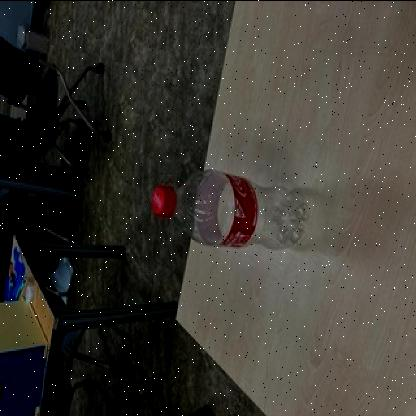Plastic Bottle: (150, 168, 307, 250)
